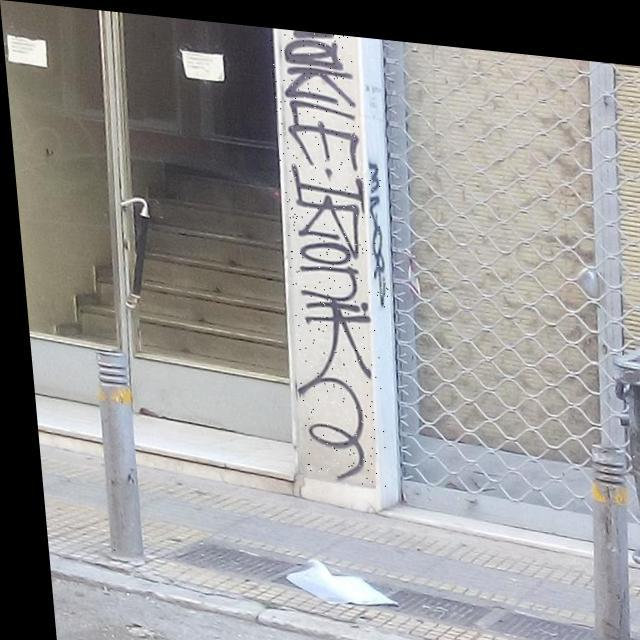-: (268, 22, 383, 480), (361, 148, 387, 303)
